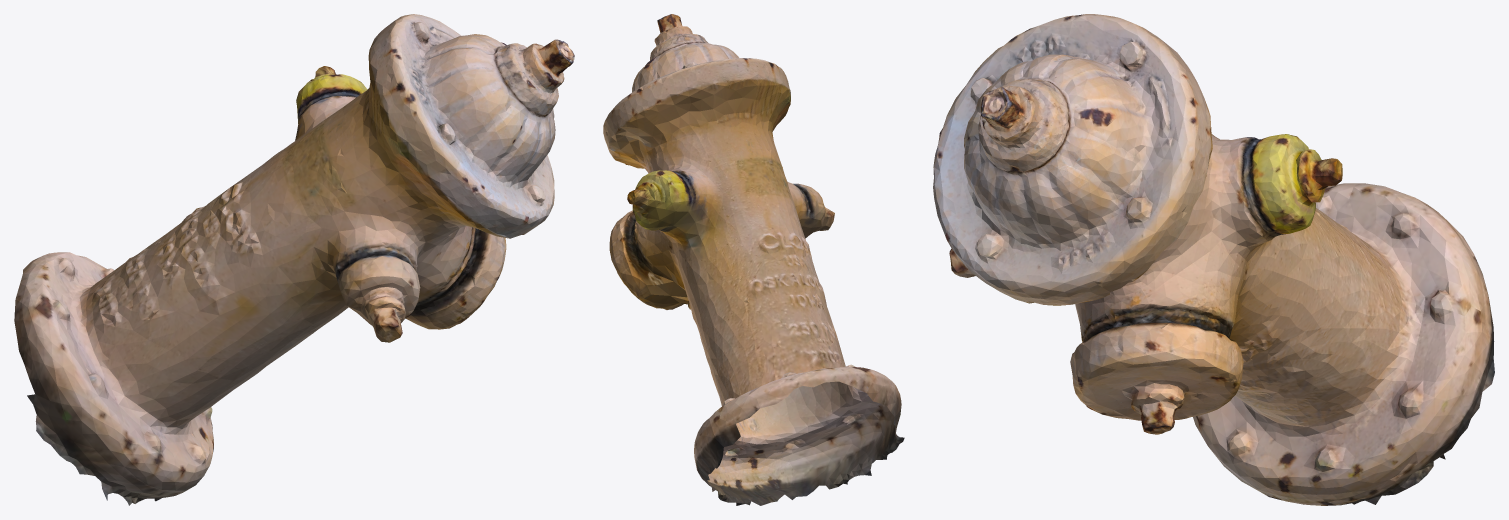
File: FireHydrant.fbx
The picture shows the model from 3 angles, left to right: view 1: azimuth 30°, elevation 25°; view 2: azimuth 150°, elevation 25°; view 3: azimuth 270°, elevation 25°; orthographic projection. The views are drawn at different scales.
Parts seen in each view (by area): view 1: Mesh_0; view 2: Mesh_0; view 3: Mesh_0.
Boxes of the visible parts, left/top/right/bottom form: Mesh_0: left=14, top=14, right=574, bottom=505; Mesh_0: left=603, top=14, right=904, bottom=505; Mesh_0: left=933, top=14, right=1494, bottom=505.
Bounding box in the file's own units: 51.01 × 52.96 × 46.93.
